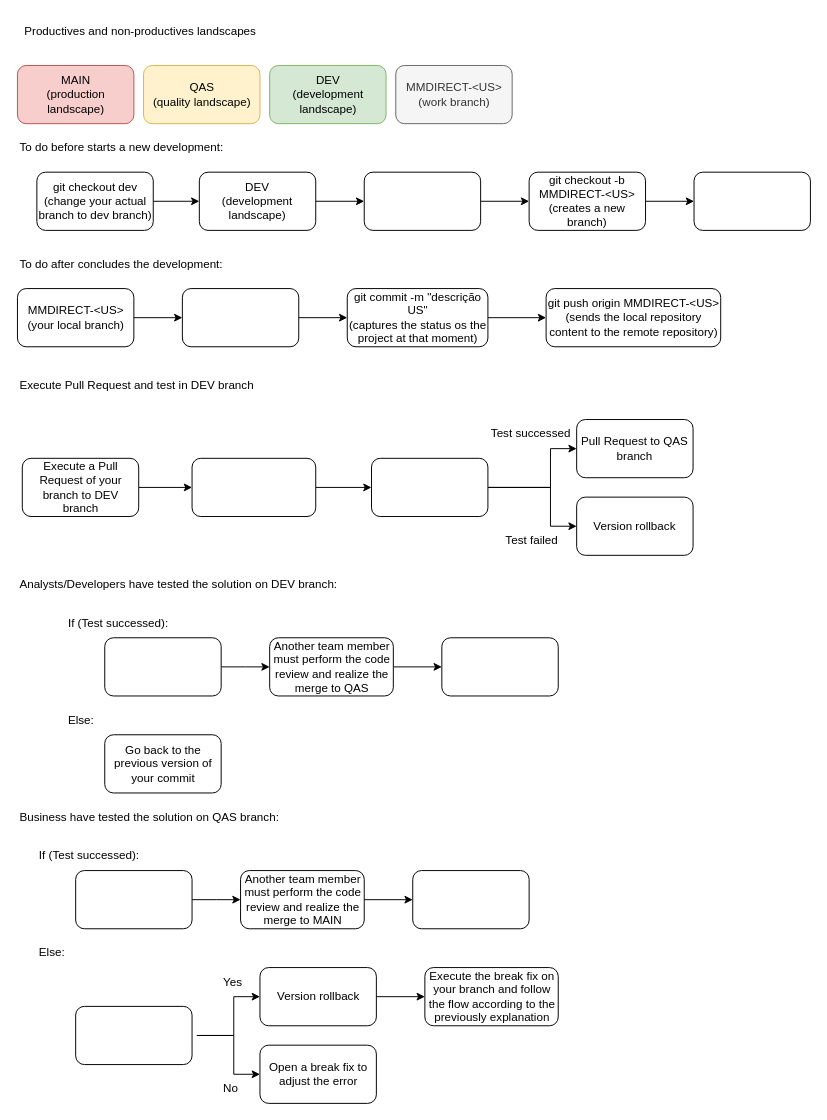
Image size: 827x1120. Some labels were removed from this diagram. Each missing label, with the box of its shape:
Another team member must perform the code review and realize the merge to DEV: (191, 457, 316, 517)
Business may test the solution on QAS: (441, 637, 558, 696)
Execute Pull Request to MAIN branch: (75, 870, 192, 929)
Execute Pull Request to QAS branch: (104, 637, 221, 696)
git add . (add the change to the working directory): (181, 288, 299, 347)
git pull origin dev (updates the dev version on your local repository): (363, 171, 481, 230)
In this point the development starts: (693, 171, 810, 230)
Is the adjust referent the change made ?: (75, 1005, 192, 1065)
Test the solution on DEV branch: (371, 457, 488, 517)
The pipeline realizes the build and deploy on BTP PROD: (412, 870, 529, 929)
